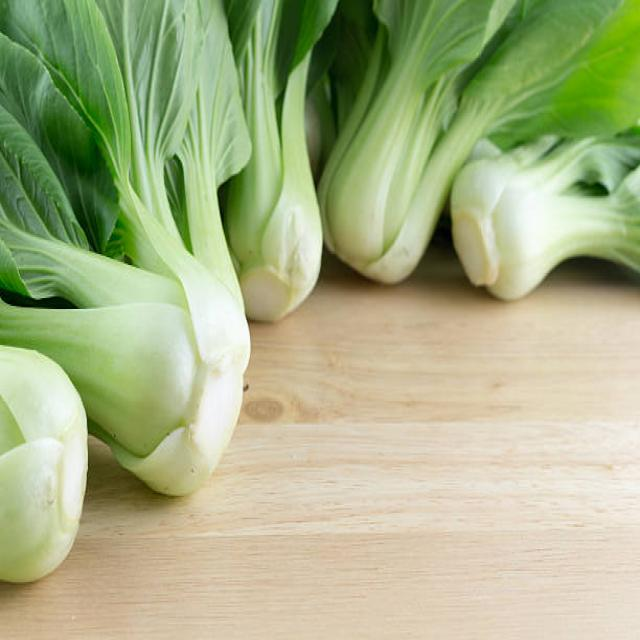Bok Choy: (32, 168, 233, 458), (472, 121, 640, 292), (240, 12, 325, 325), (349, 8, 431, 280)
